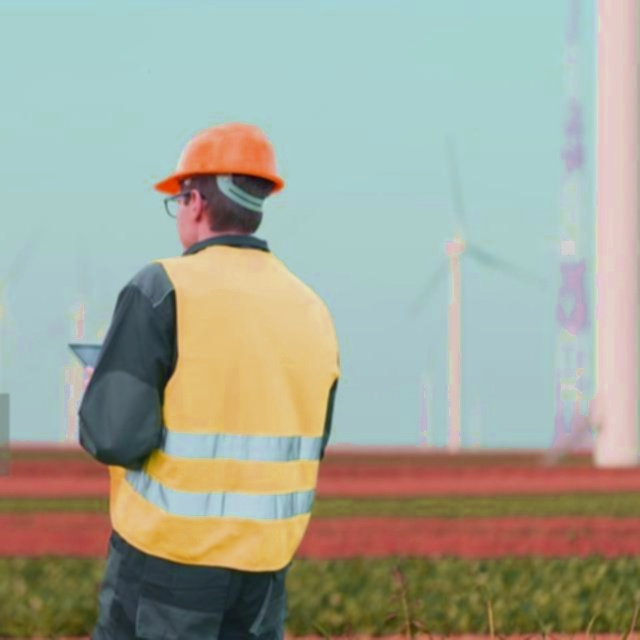Con_Casco: (152, 124, 280, 248)
Con_Chaleco: (107, 248, 340, 553)
